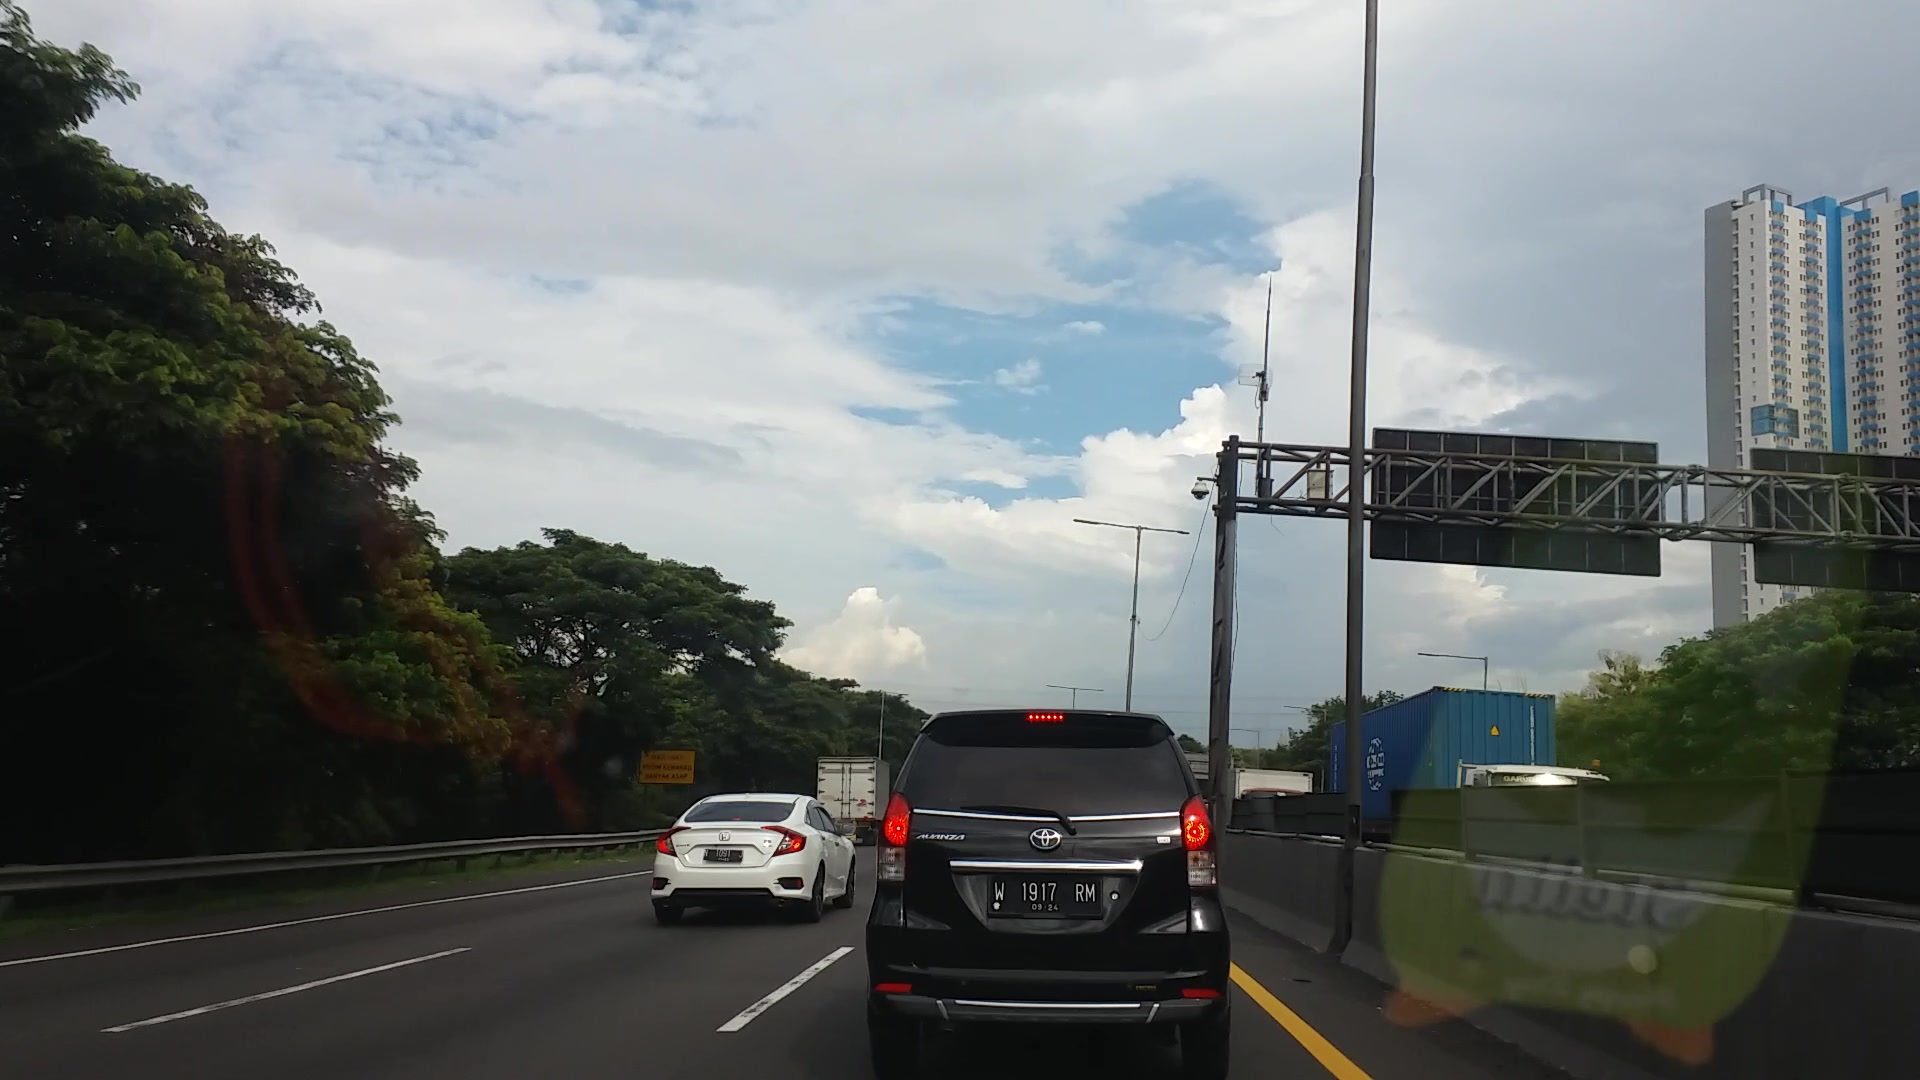plate_positive: (988, 872, 1104, 918)
